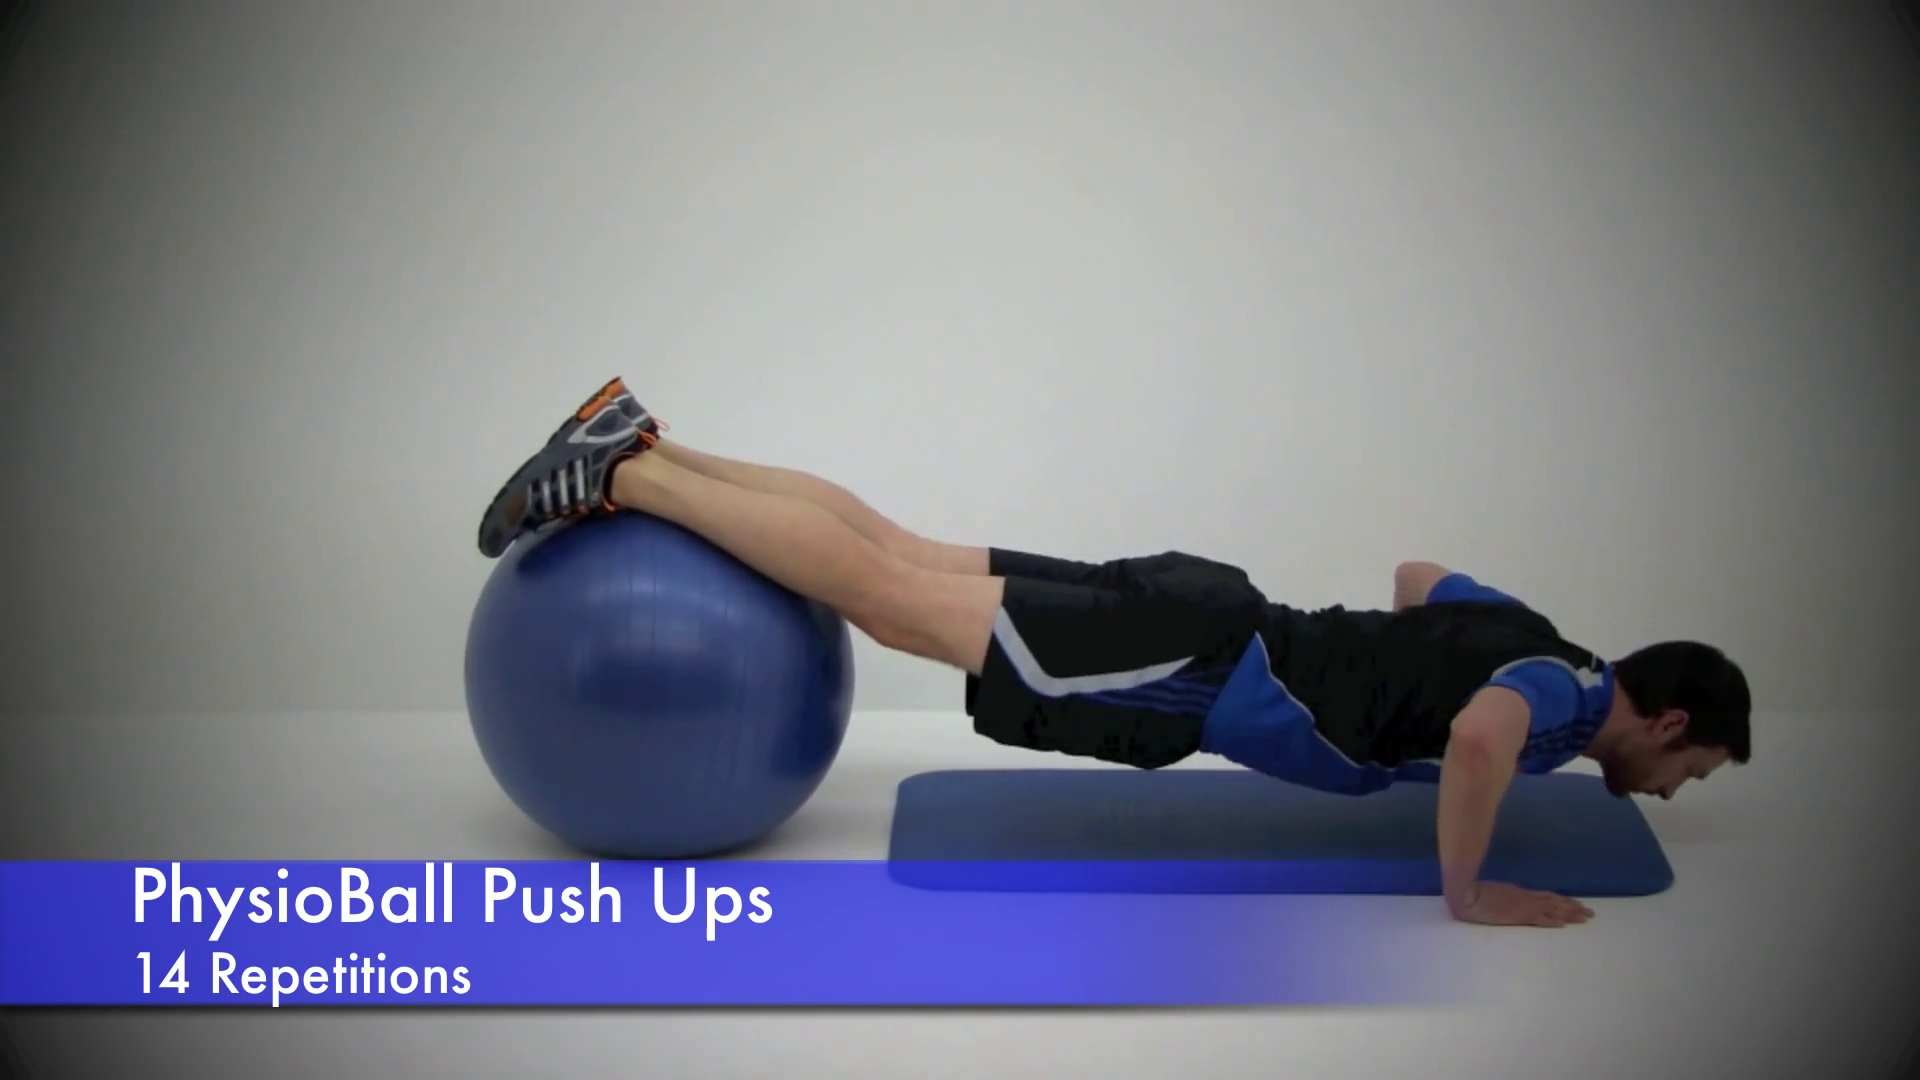yogaball: (435, 477, 873, 897)
